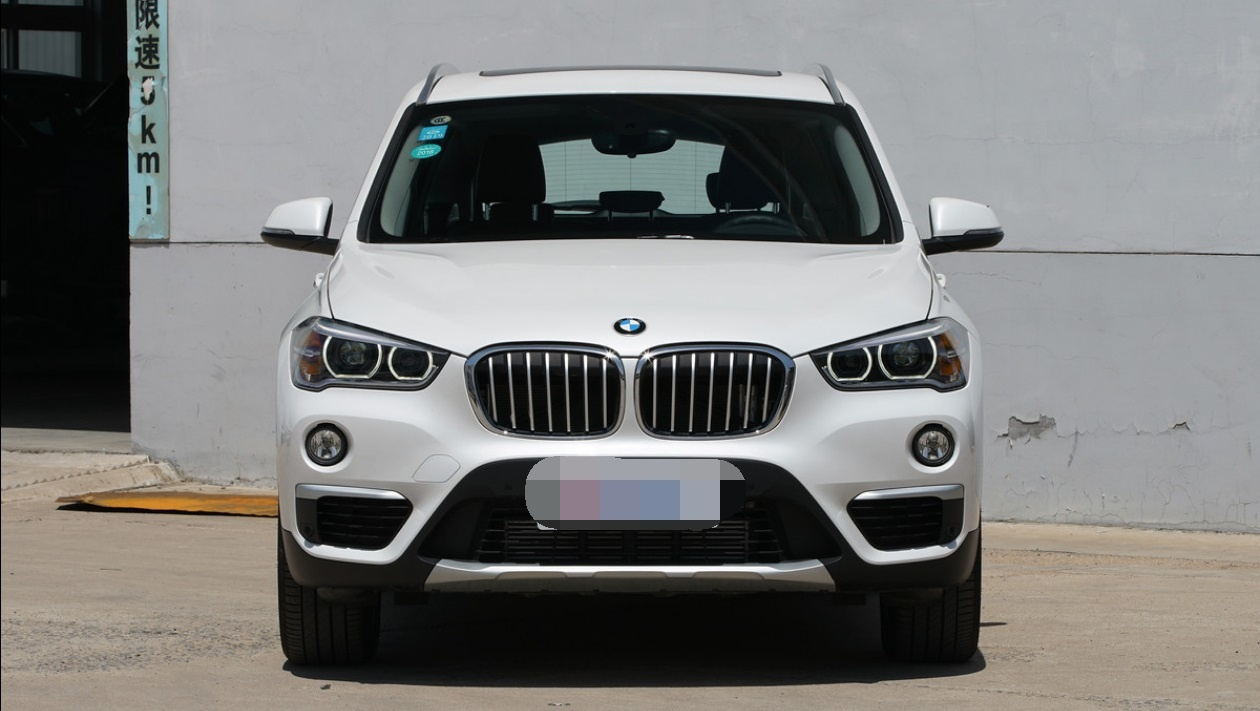SUV: (261, 59, 1046, 689)
